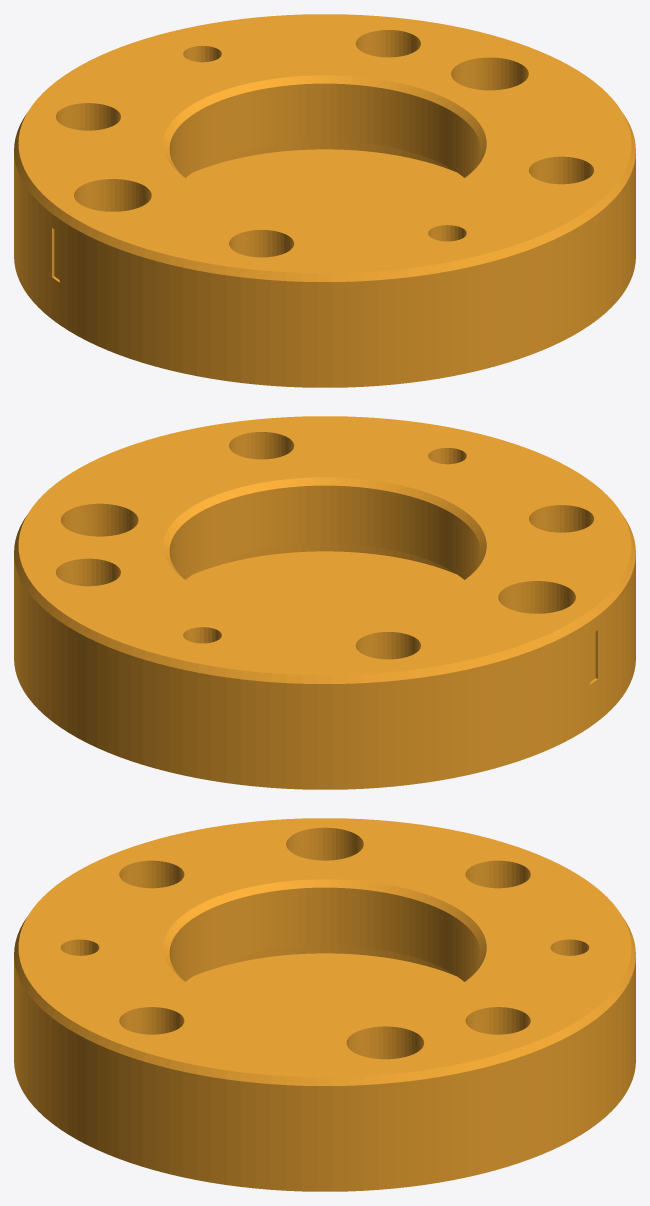
File: ABBIRB1100Link6.dae
The picture shows the model from 3 angles, top to bottom: view 1: azimuth 30°, elevation 25°; view 2: azimuth 150°, elevation 25°; view 3: azimuth 270°, elevation 25°; orthographic projection.
Parts seen in each view (by area): view 1: irb1100Link6; view 2: irb1100Link6; view 3: irb1100Link6.
Boxes of the visible parts, x1,y1,x2,y2 form: irb1100Link6: (14, 14, 635, 387); irb1100Link6: (14, 416, 635, 789); irb1100Link6: (14, 818, 635, 1191).
Bounding box in the file's own units: 0.04 × 0.04 × 0.008.
